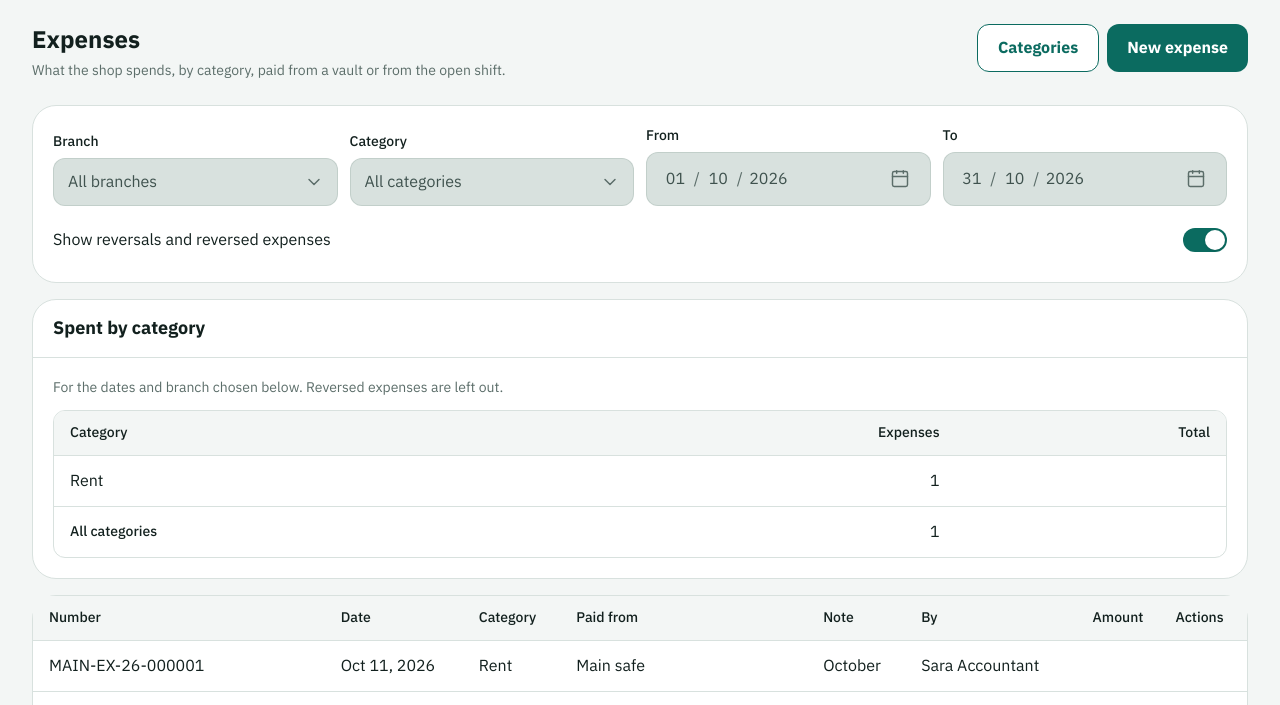
K03 expenses › a new expense needs a category, an amount and a vault of the branch; one request
This screenshot has width=1280, height=705.
Click the button "New expense": [1178, 48] box x1=1107 y1=24 x2=1248 y2=72
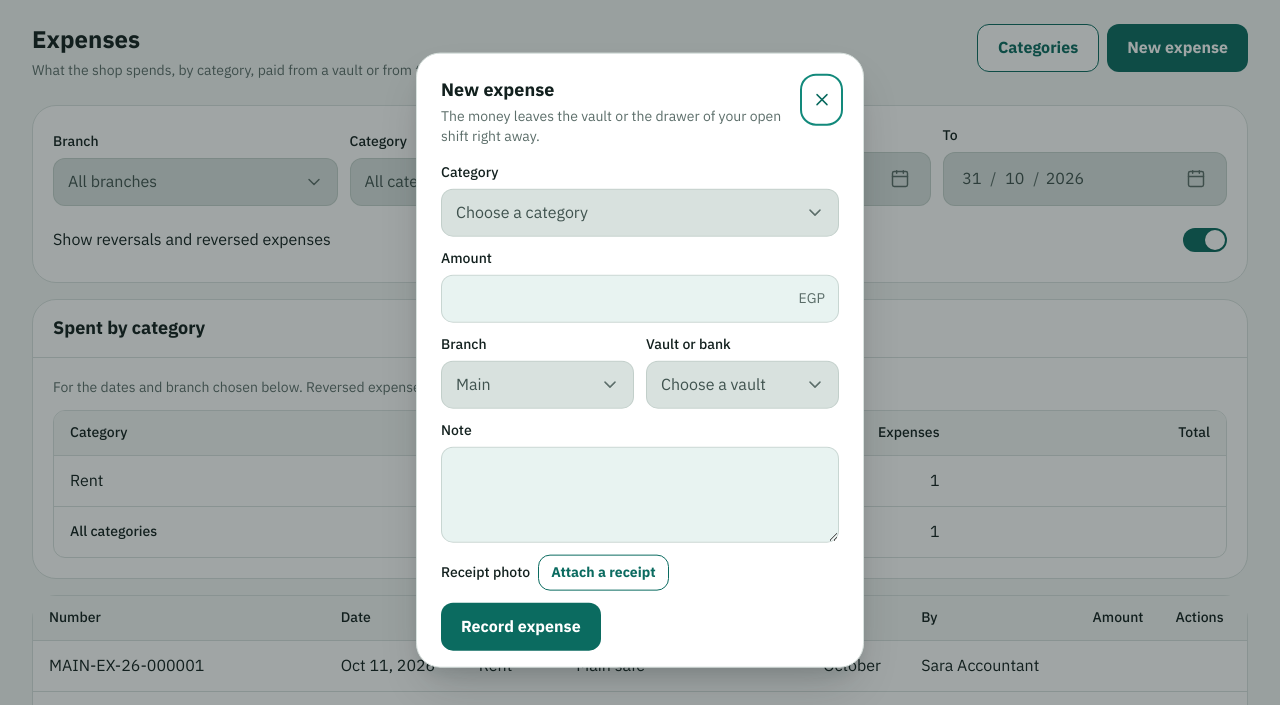
Click the button "Record expense": [521, 626] box x1=441 y1=602 x2=601 y2=650
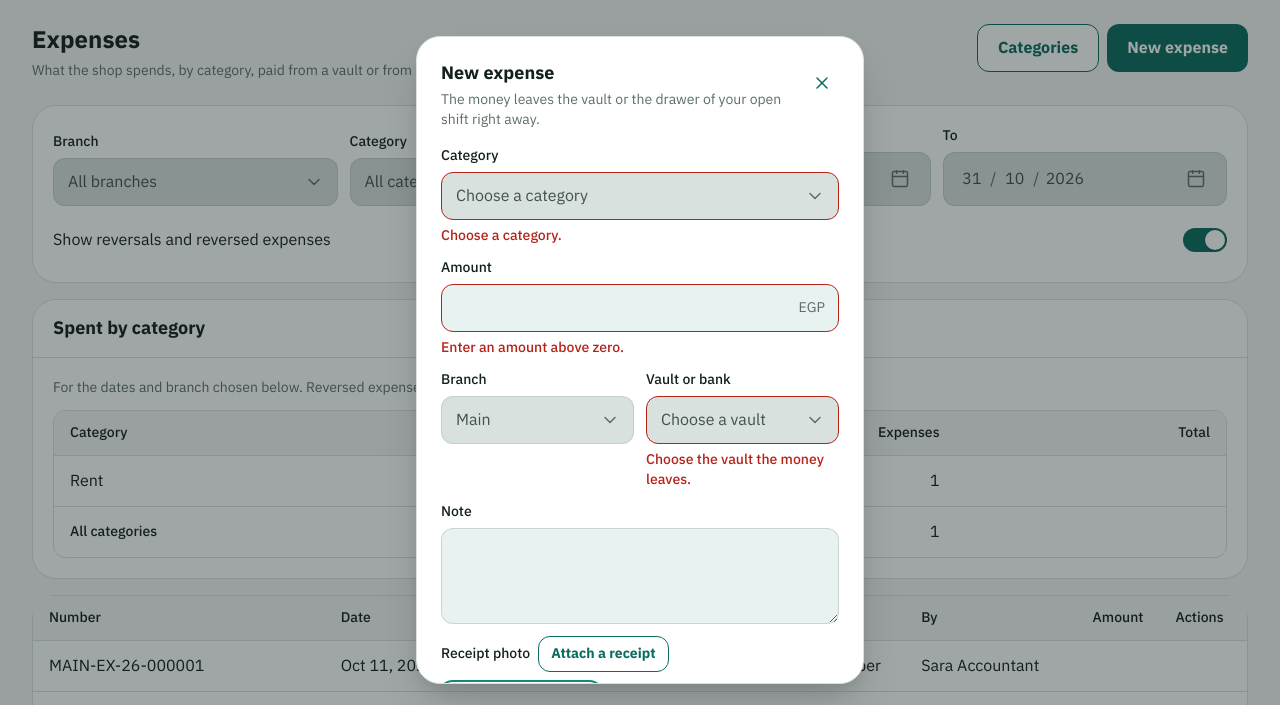
Expected: the text "Choose a category." is shown, x1=441 y1=225 x2=562 y2=246
Expected: the text "Enter an amount above zero." is shown, x1=441 y1=337 x2=624 y2=358
Expected: the text "Choose the vault the money leaves." is shown, x1=646 y1=450 x2=839 y2=490
Select "Rent" in the dropdown labelled "Category": [640, 196] box x1=441 y1=172 x2=839 y2=220
In the field labelled "Amount": [640, 308] box x1=441 y1=284 x2=839 y2=332, type "1200"
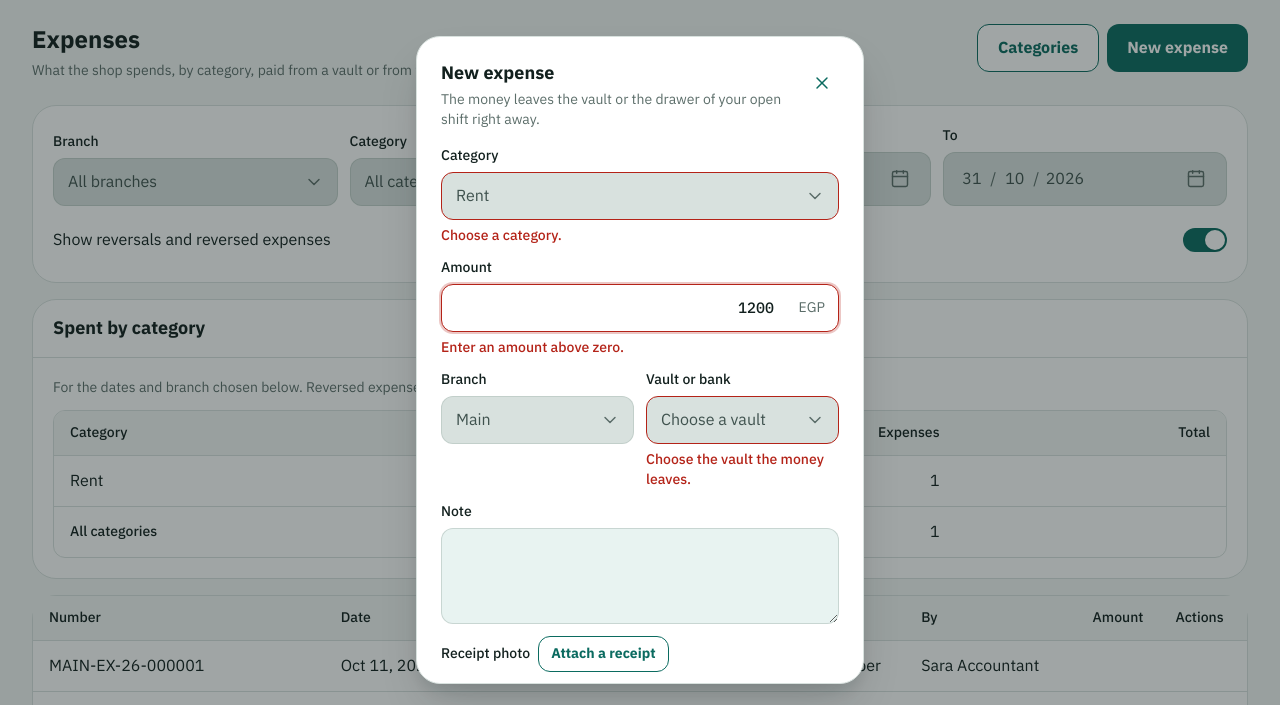
Select "Main safe ()" in the dropdown labelled "Vault or bank": [742, 420] box x1=646 y1=396 x2=839 y2=444
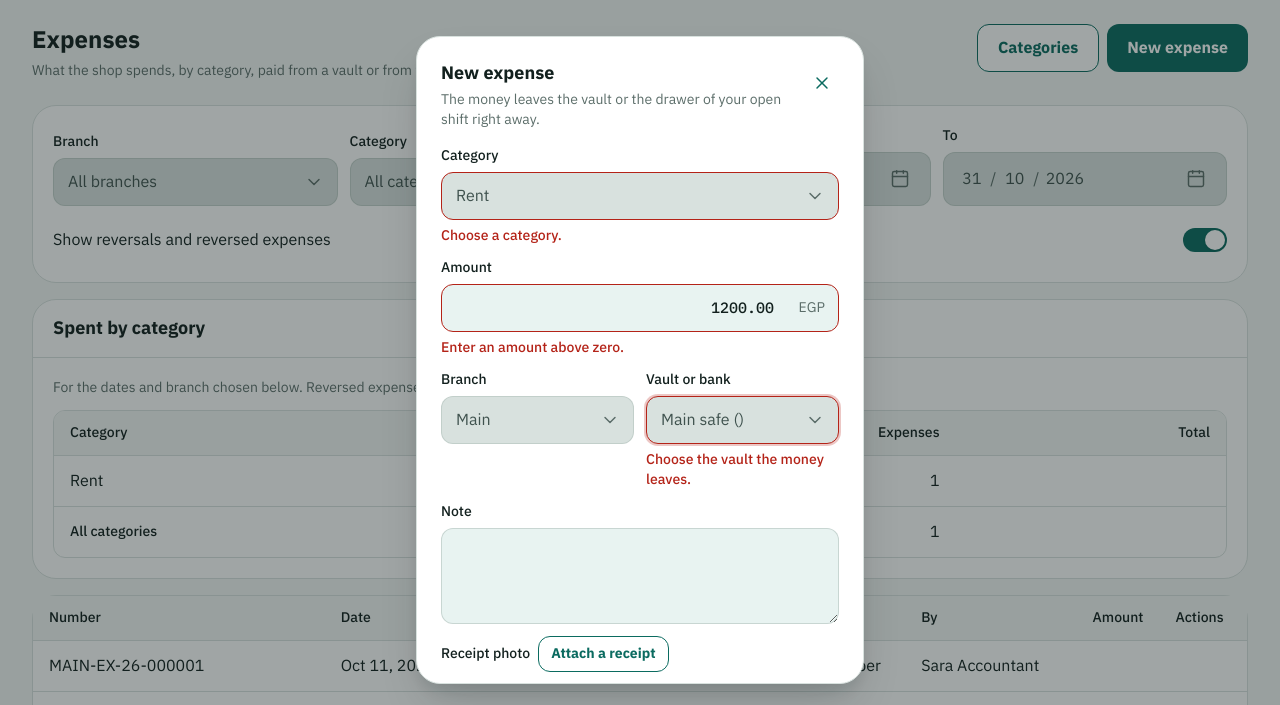
In the text box labelled "Note": [640, 576] box x1=441 y1=528 x2=839 y2=624, type "  October "
(page scrolled)
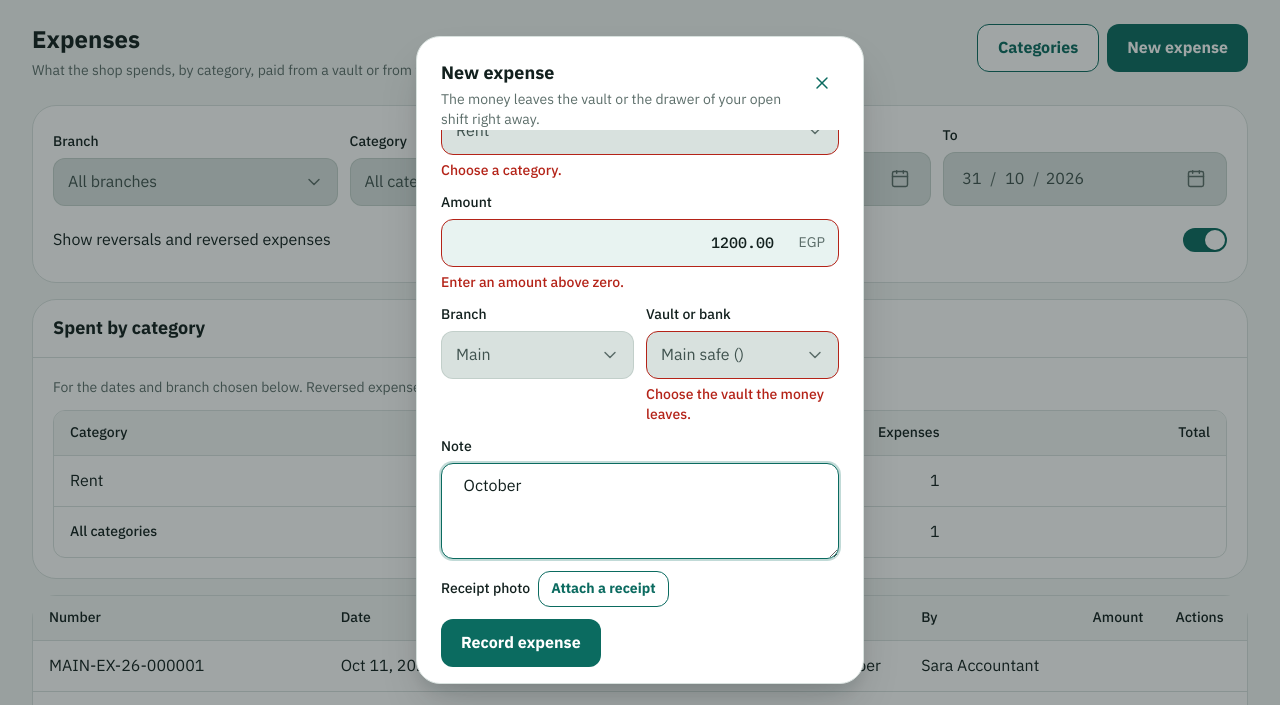
Double-click the button "Record expense": [521, 643] box x1=441 y1=619 x2=601 y2=667
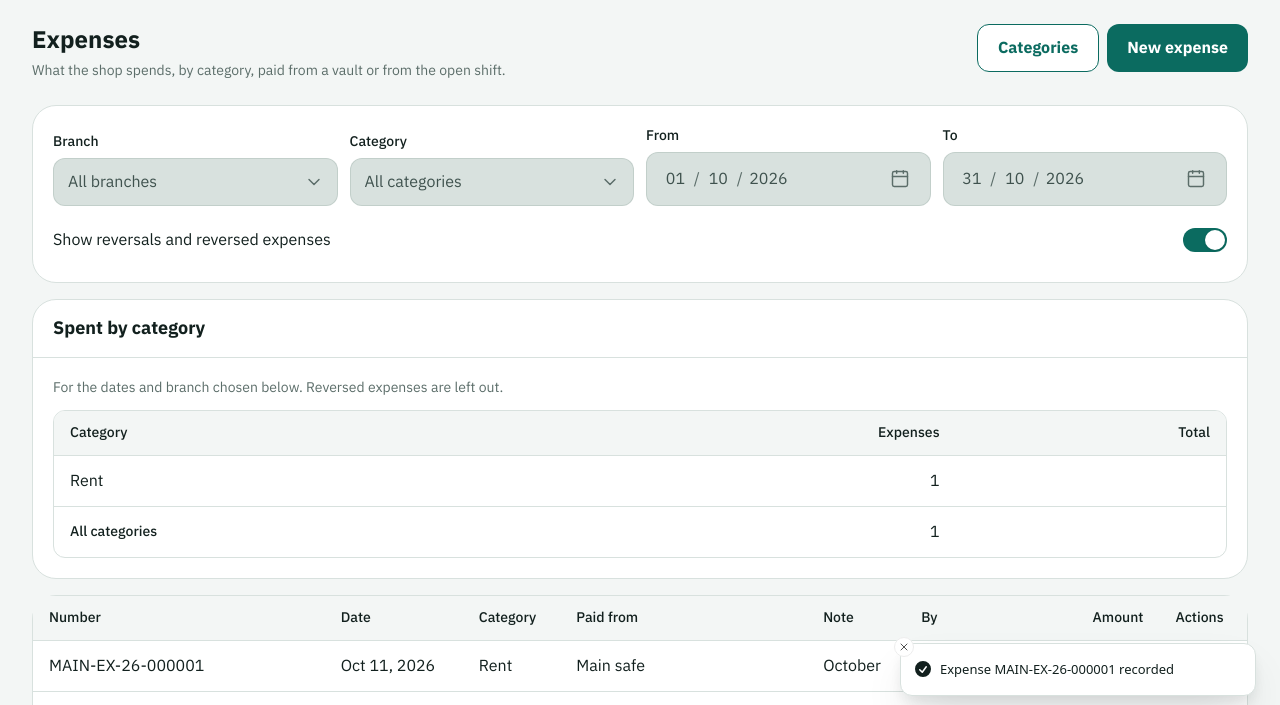
Expected: the dialog is gone
